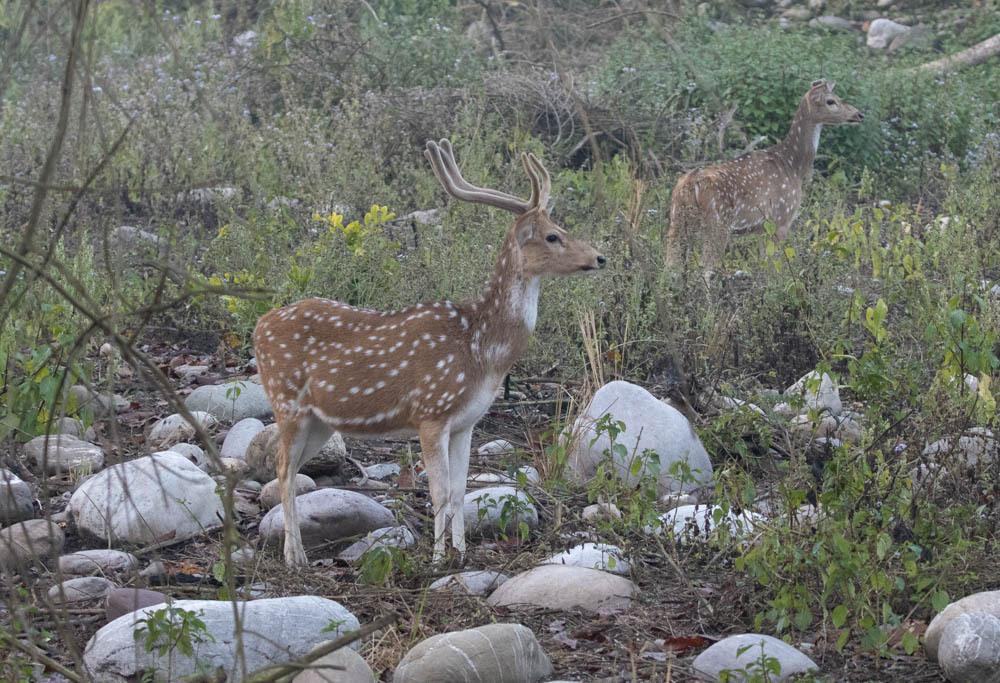Deer: (253, 139, 605, 565)
